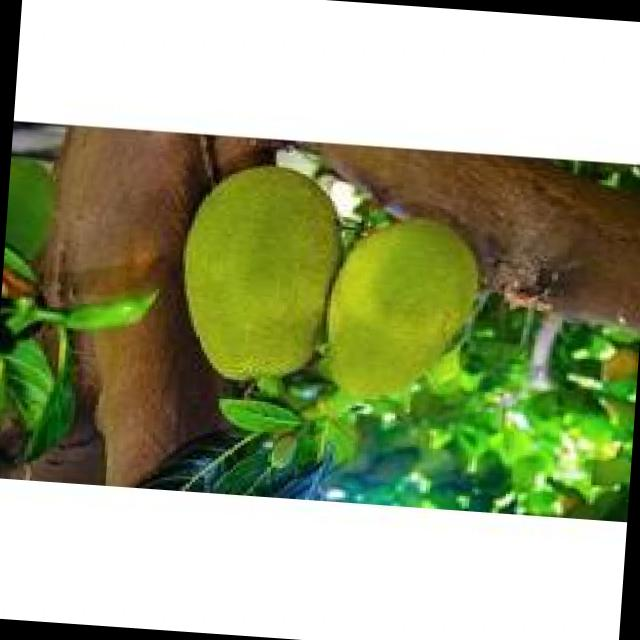Fruit: (152, 147, 359, 402), (311, 198, 497, 414)
